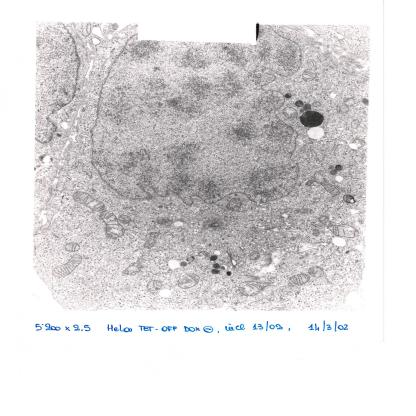mitochondria: (317, 213, 359, 239), (95, 210, 129, 240), (50, 254, 85, 281), (311, 171, 342, 197), (69, 191, 107, 211), (234, 280, 271, 297), (222, 196, 246, 212), (177, 273, 199, 289), (286, 272, 311, 286), (119, 262, 142, 277), (299, 69, 319, 83), (63, 241, 83, 253), (118, 214, 138, 225), (306, 266, 326, 277), (146, 280, 164, 292), (283, 106, 298, 118), (142, 238, 158, 249), (195, 250, 210, 260), (247, 250, 261, 260), (148, 232, 162, 238), (310, 101, 322, 107)
